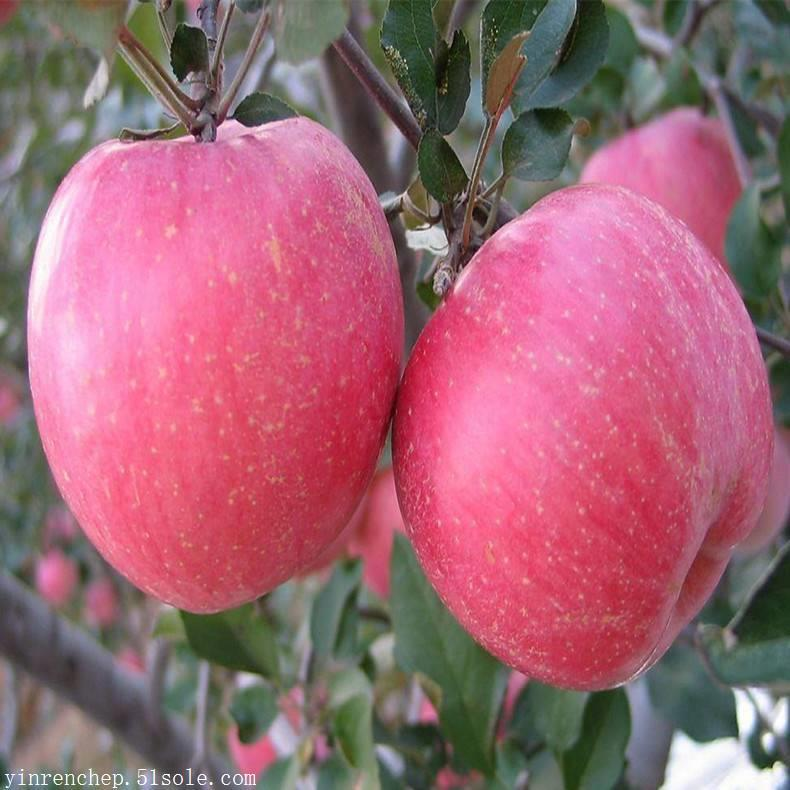apple: (21, 116, 413, 618), (393, 181, 777, 689), (577, 101, 746, 265)
